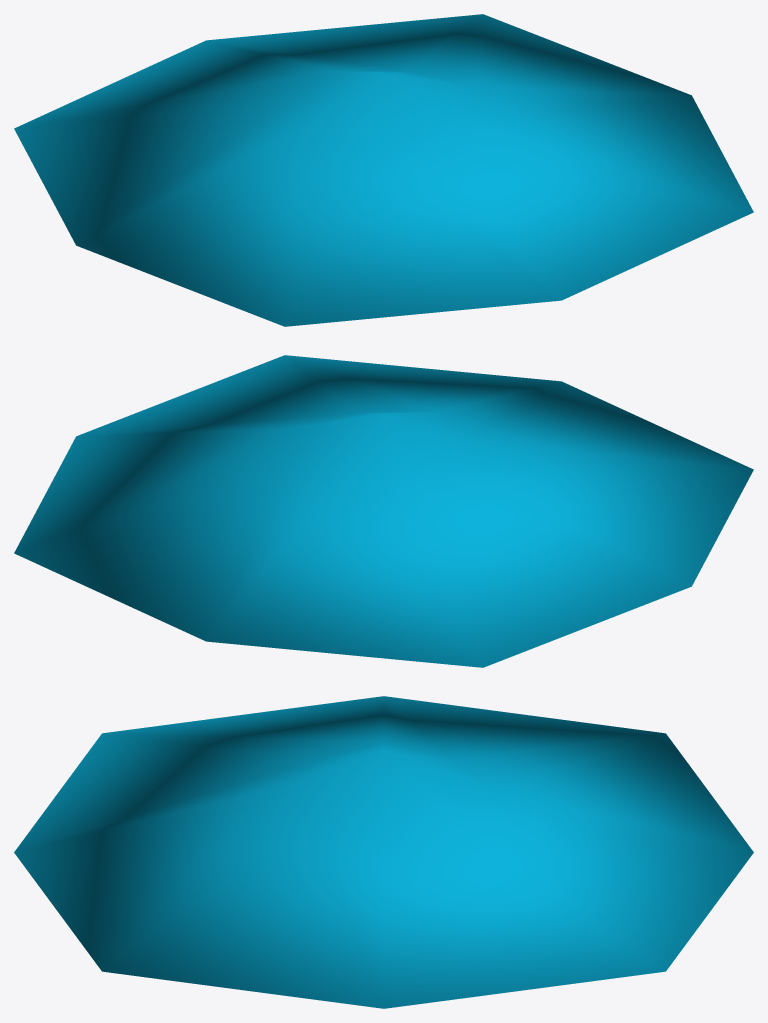
File: ufo.glb
3 views of the same model, one above another, from view 1: azimuth 30°, elevation 25°; view 2: azimuth 150°, elevation 25°; view 3: azimuth 270°, elevation 25° (orthographic). The views are drawn at different scales.
Visible parts, largest first — view 1: Cube; view 2: Cube; view 3: Cube.
Part boxes in pixels (<box>): Cube: <box>14,14,753,326</box>; Cube: <box>14,355,753,667</box>; Cube: <box>14,696,753,1008</box>.
Bounding box in the file's own units: 10.69 × 2.62 × 10.69.
